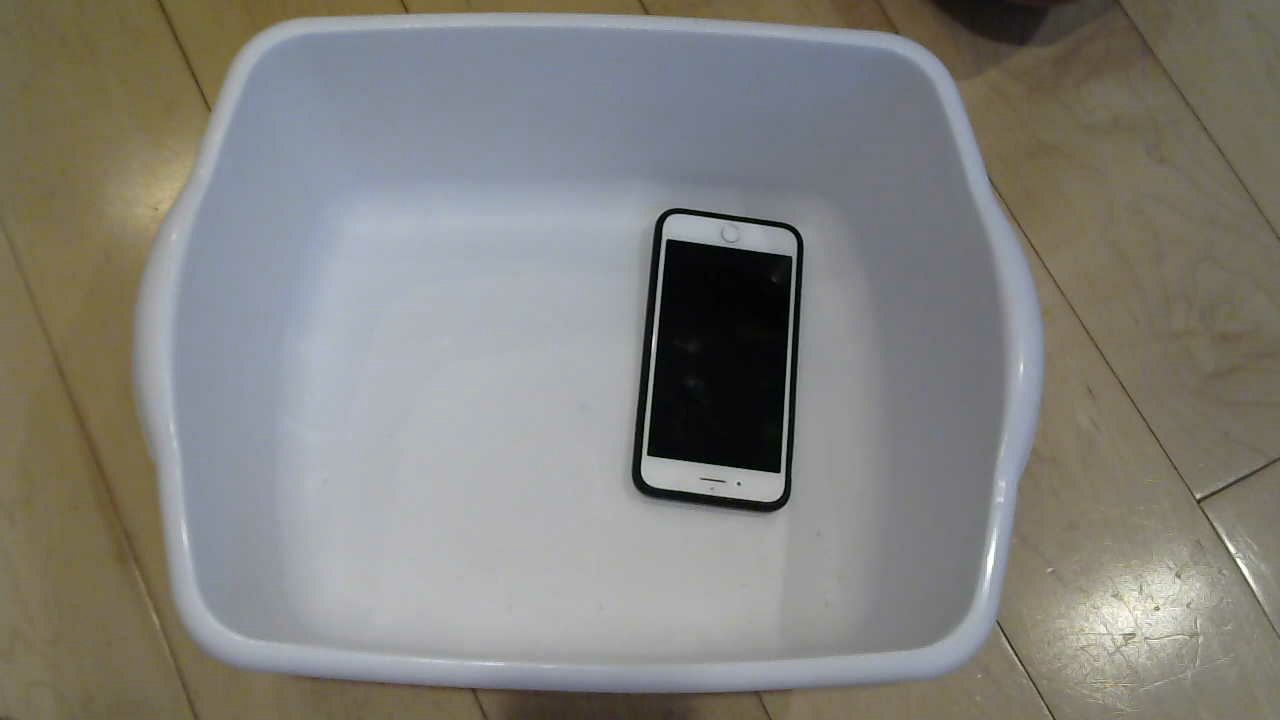phone: (624, 188, 831, 521)
